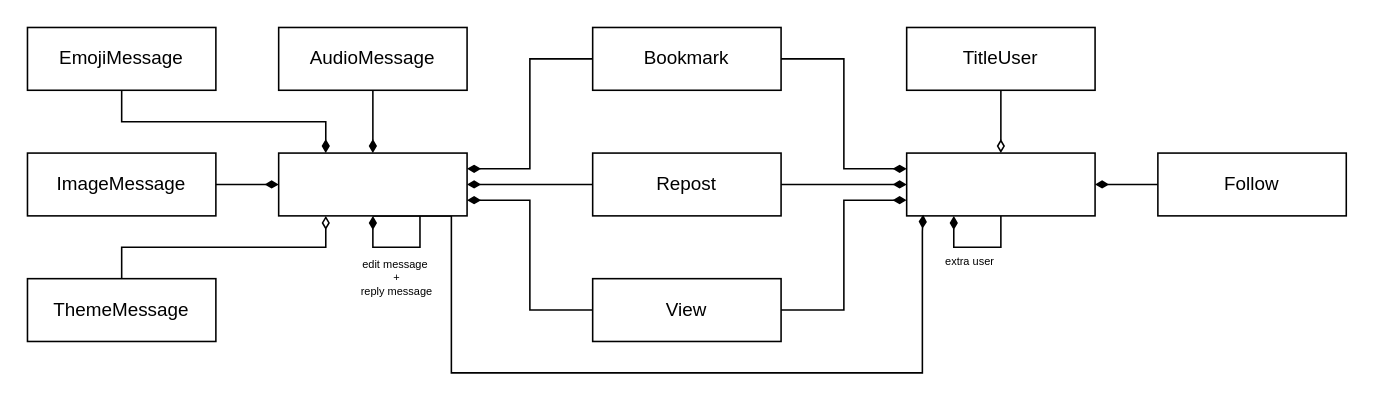
Some shapes in this 1374 by 413 pixel diagram are drawn without their labels. The shapes that lost their labels are listed below. From the top down, each one's box as (x1, y1, x2, y2) in pixels, then its label:
(277, 152, 467, 216): Message
(905, 152, 1095, 216): User
